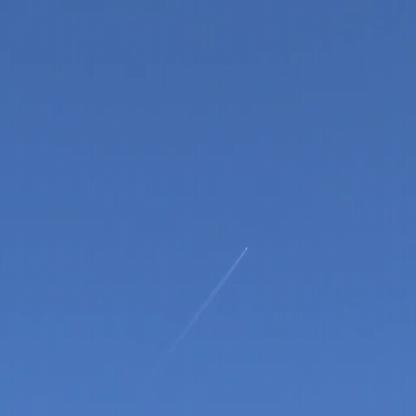CIV_Plane: (242, 238, 255, 259)
